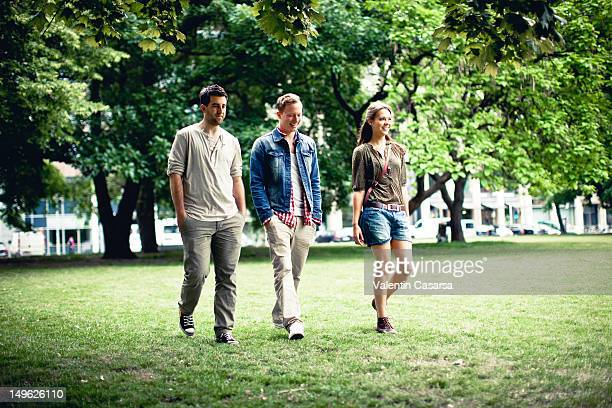person: (156, 76, 249, 350), (247, 80, 332, 354), (347, 97, 422, 330)
